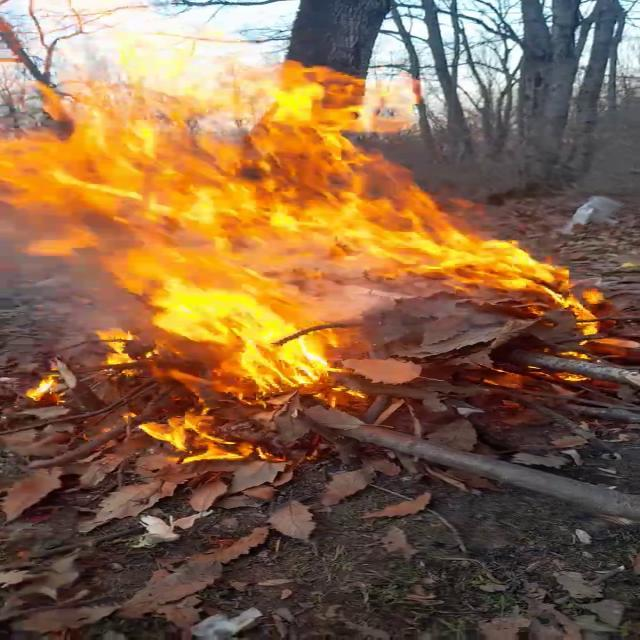Fire: (2, 5, 625, 457)
